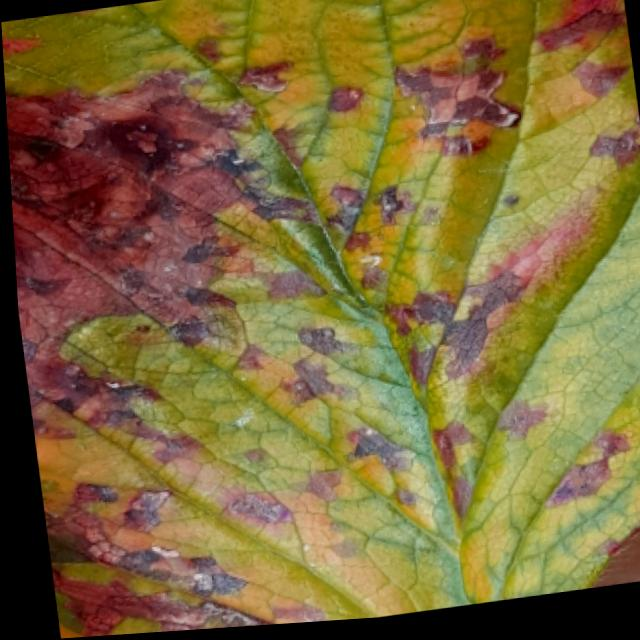Angular Leafspot: (1, 0, 640, 639)
